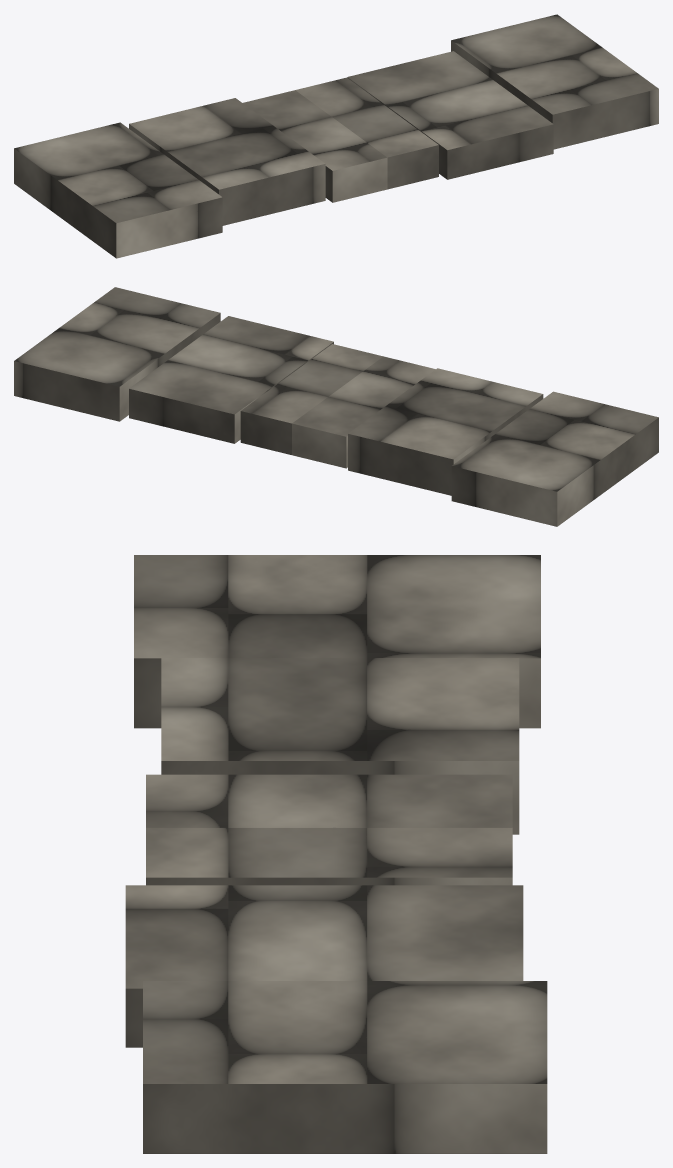
Rendered from Prop_ExteriorBorder_Straight2_LOD1.gltf.
3 renders of one model, top to bottom at view 1: azimuth 30°, elevation 25°; view 2: azimuth 150°, elevation 25°; view 3: azimuth 270°, elevation 25°, orthographic. The views are drawn at different scales.
Visible parts, largest first — view 1: Prop_ExteriorBorder_Straight2_LOD1; view 2: Prop_ExteriorBorder_Straight2_LOD1; view 3: Prop_ExteriorBorder_Straight2_LOD1.
Part boxes in pixels (x1=…): Prop_ExteriorBorder_Straight2_LOD1: x1=14, y1=14, x2=658, y2=258; Prop_ExteriorBorder_Straight2_LOD1: x1=14, y1=287, x2=658, y2=526; Prop_ExteriorBorder_Straight2_LOD1: x1=125, y1=555, x2=547, y2=1153.
Bounding box in the file's own units: 2 × 0.13 × 0.6746.
1 material, 1 textured.
